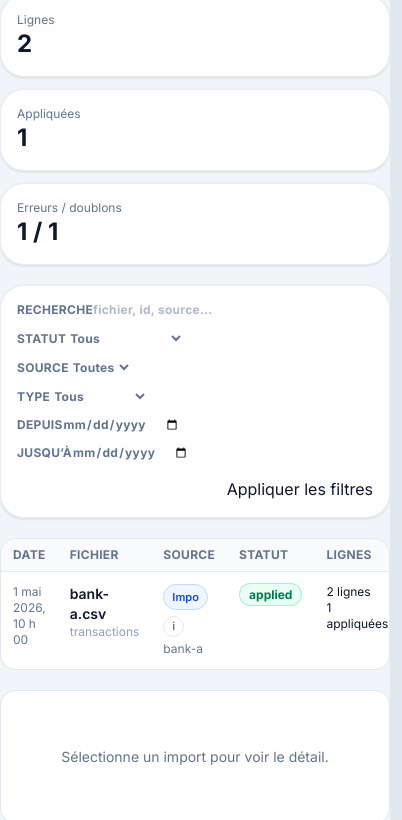
ImportHistorySection › shows detail tabs with errors, decisions and applied links
The image size is (402, 820).
(page scrolled)
Click the row that starts with "1 mai 2026, 10 h 00".
click(29, 608)  # box [1,572,390,669]
(page scrolled)
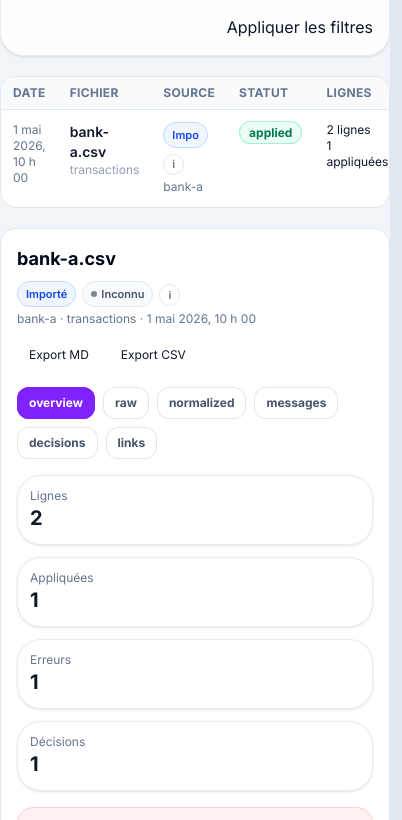
Expected: the text "bank-a.csv" is shown, [70,123,109,160]
Expected: the text "Export MD" is shown, [17,339,101,371]
Click the button "messages".
click(296, 403)  # box [254,387,338,419]
(page scrolled)
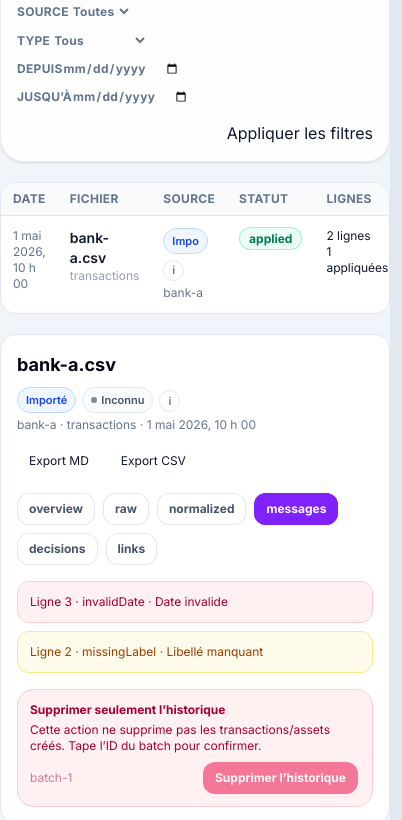
Expected: the text "Date invalide" is shown, [30,594,228,609]
Expected: the text "Libellé manquant" is shown, [30,644,263,659]
Click the button "decisions".
click(57, 549)  # box [17,533,98,565]
(page scrolled)
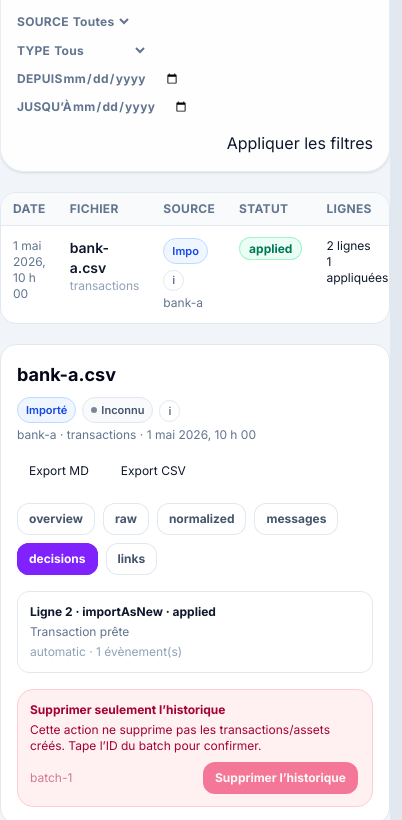
Expected: the text "importAsNew" is shown, [30,604,216,619]
Click the button "links".
click(131, 559)  # box [106,543,157,575]
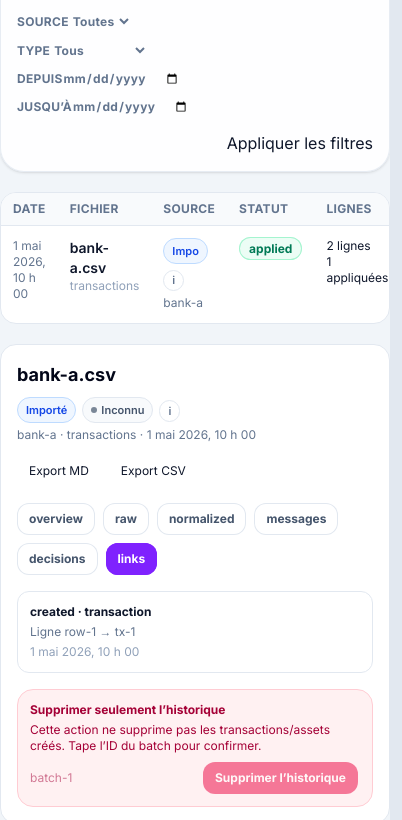
Expected: the text "created" is shown, [30,604,151,619]
Expected: the text "tx-1" is shown, [30,624,135,639]
